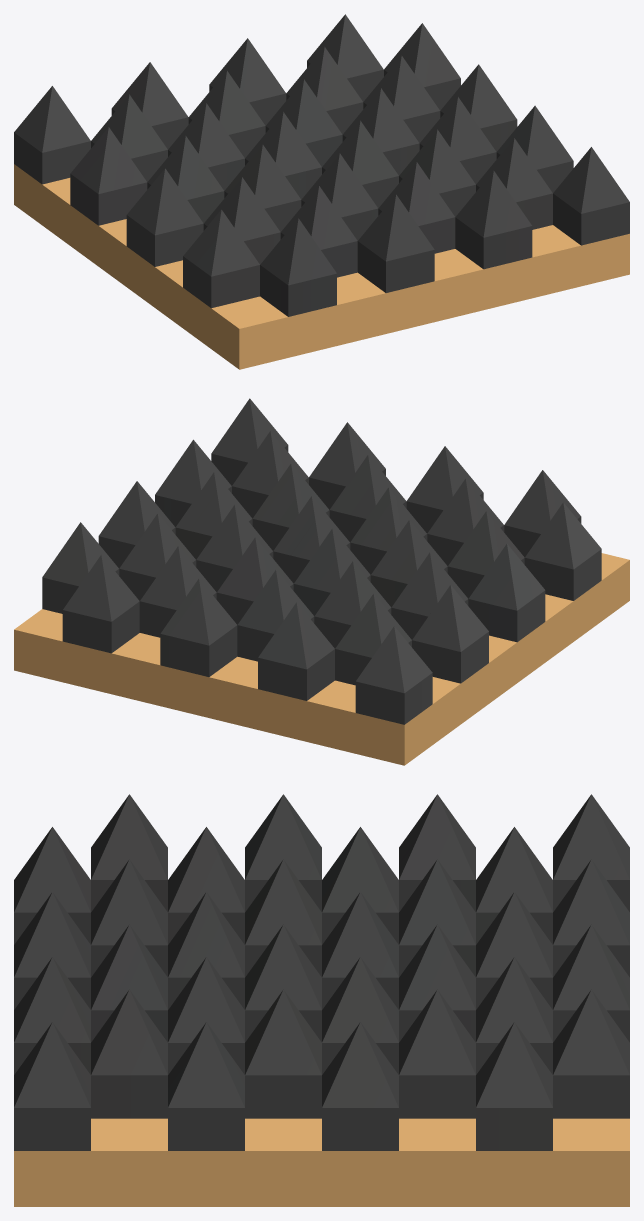
Rendered from spikes.fbx.
The picture shows the model from 3 angles, top to bottom: view 1: azimuth 30°, elevation 25°; view 2: azimuth 150°, elevation 25°; view 3: azimuth 270°, elevation 25°; orthographic projection. The views are drawn at different scales.
Visible parts, largest first — view 1: Cube.002; view 2: Cube.002; view 3: Cube.002.
Part boxes in pixels (<box>): Cube.002: <box>14,14,629,369</box>; Cube.002: <box>14,398,629,765</box>; Cube.002: <box>14,794,629,1206</box>.
Size of the model in its own units: 200 by 60.46 by 200.
